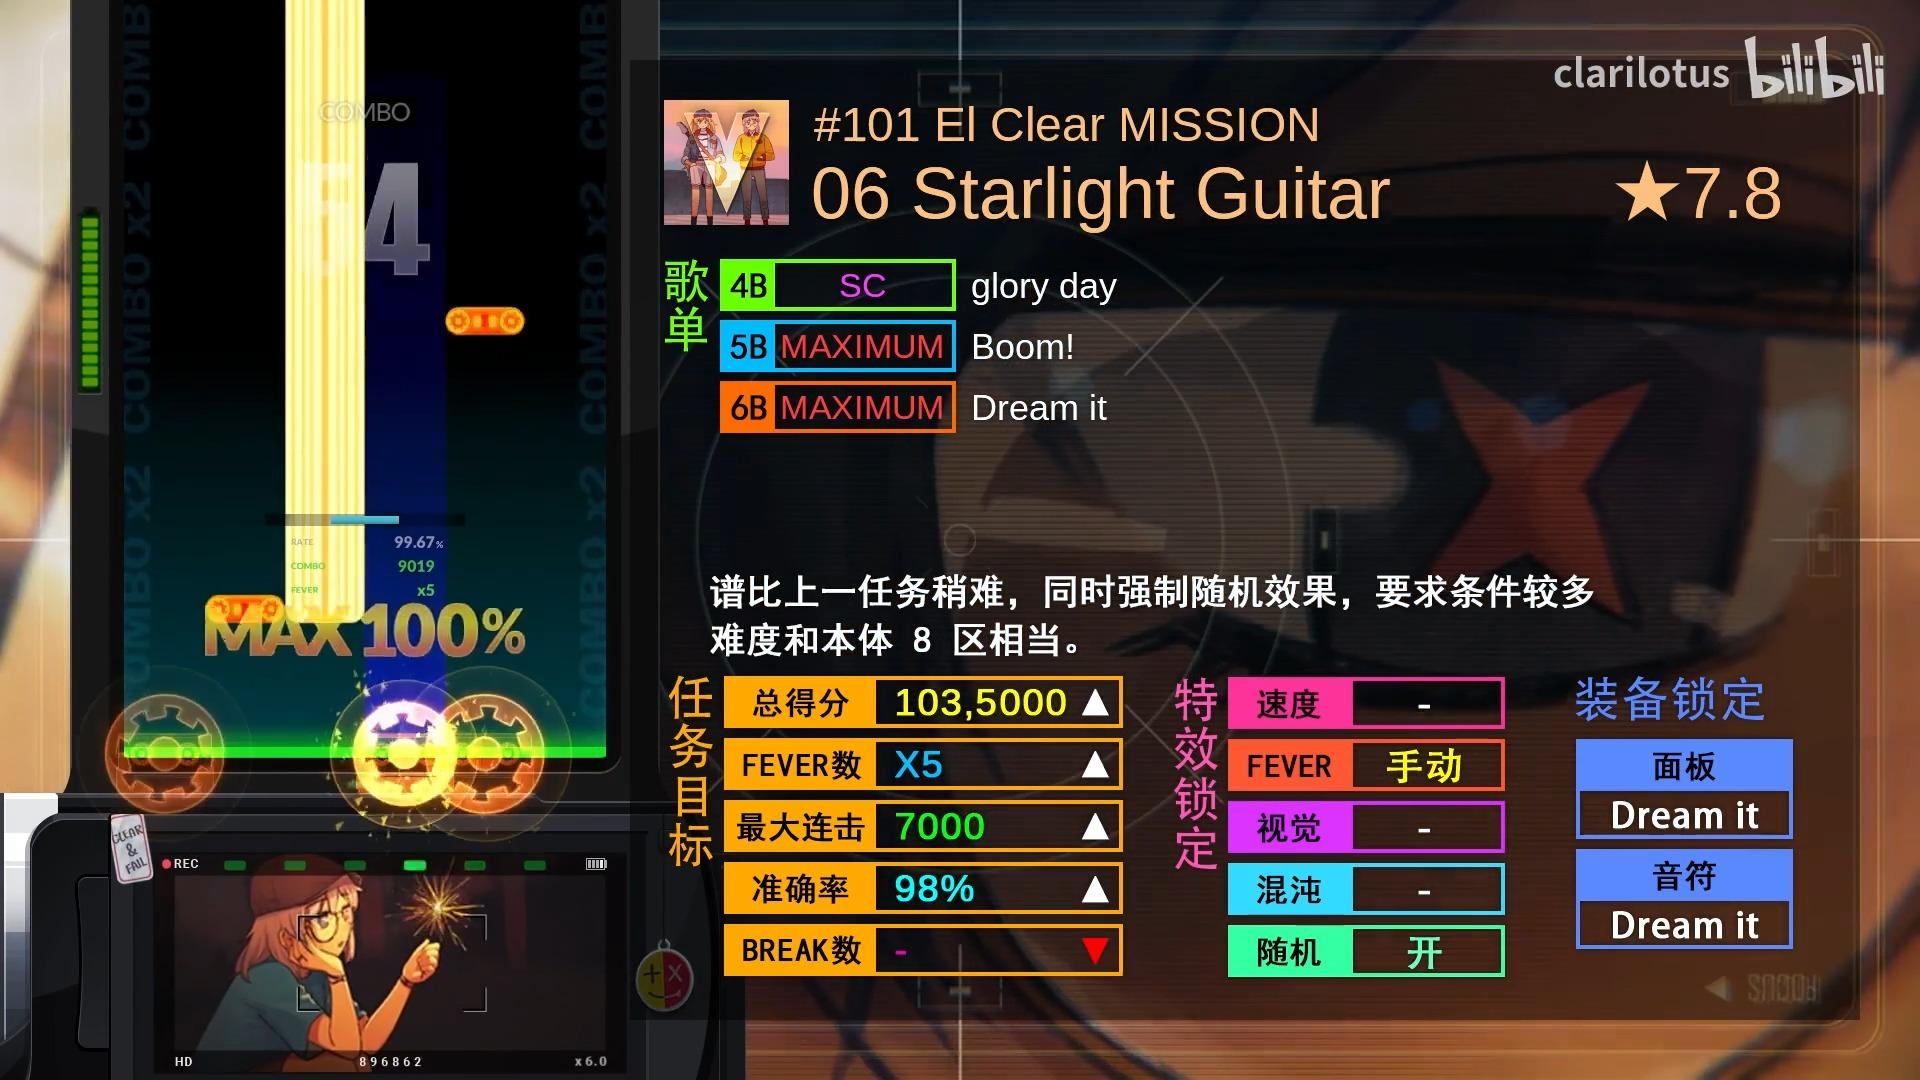hold-start: (285, 597, 364, 622)
note: (206, 593, 285, 624), (444, 306, 525, 335)
